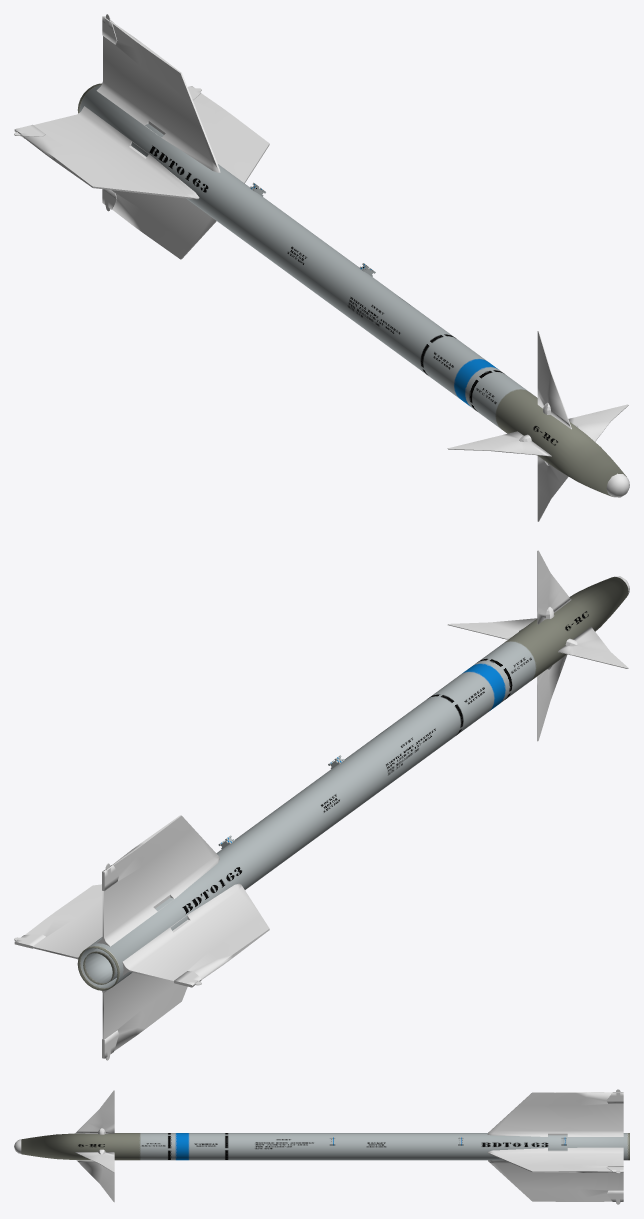
The model's file is aim9sidewinder.fbx.
The picture shows the model from 3 angles, top to bottom: view 1: azimuth 30°, elevation 25°; view 2: azimuth 150°, elevation 25°; view 3: azimuth 270°, elevation 25°; orthographic projection. The views are drawn at different scales.
Parts seen in each view (by area): view 1: AIM-9 SIDEWINDER; view 2: AIM-9 SIDEWINDER; view 3: AIM-9 SIDEWINDER.
Boxes of the visible parts, x1=… form: AIM-9 SIDEWINDER: x1=14, y1=14, x2=629, y2=521; AIM-9 SIDEWINDER: x1=14, y1=550, x2=629, y2=1060; AIM-9 SIDEWINDER: x1=14, y1=1089, x2=629, y2=1204.
Size of the model in its own units: 8958 by 8996 by 43680.
